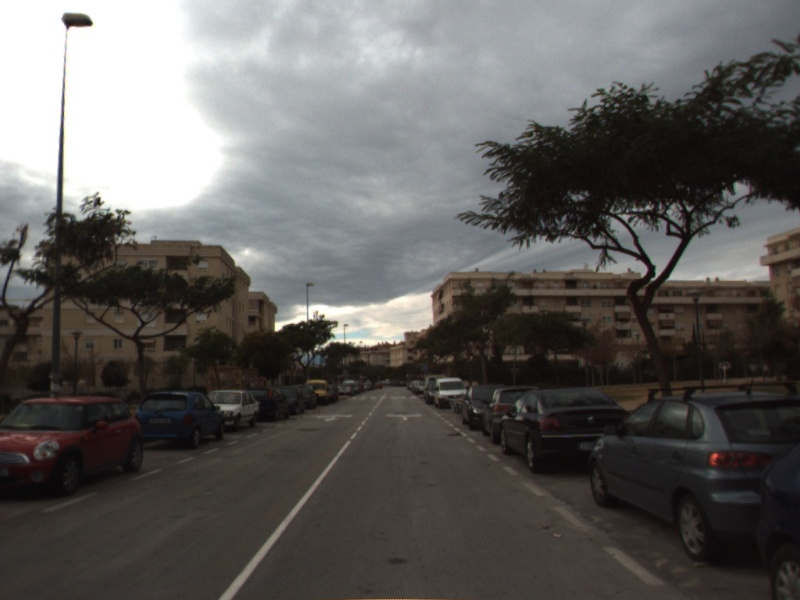LEFT_RIGHT: (383, 410, 425, 422)
